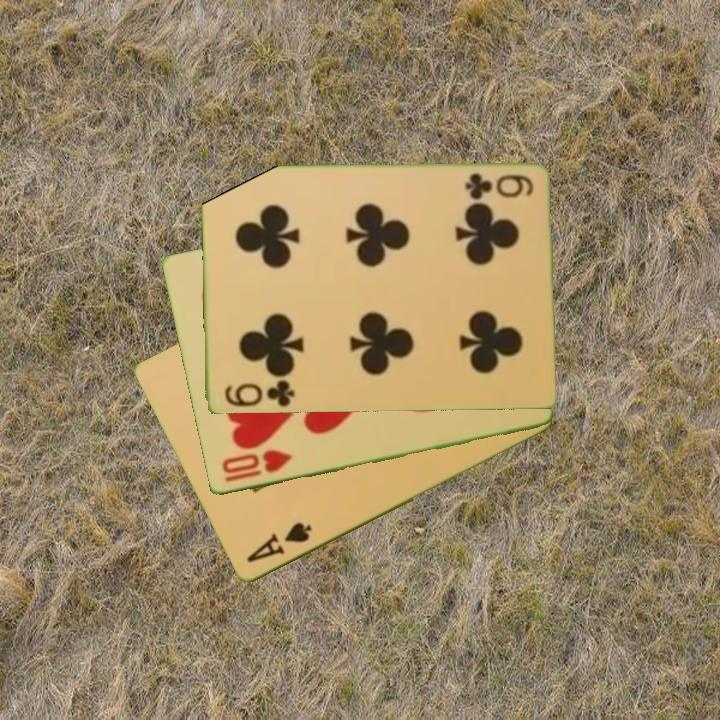10h: (218, 447, 295, 486)
6c: (221, 377, 297, 410), (461, 170, 536, 201)
As: (242, 519, 315, 566)
